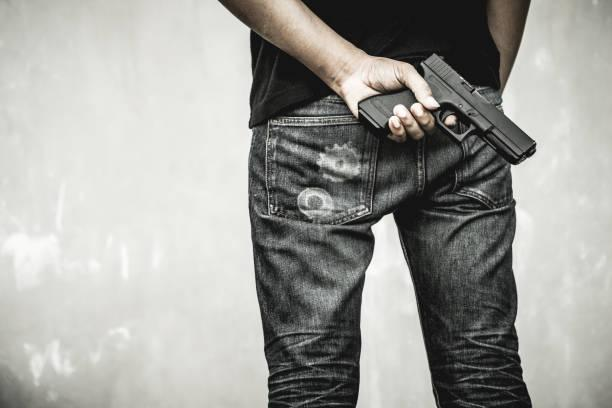weapon: (356, 51, 542, 167)
